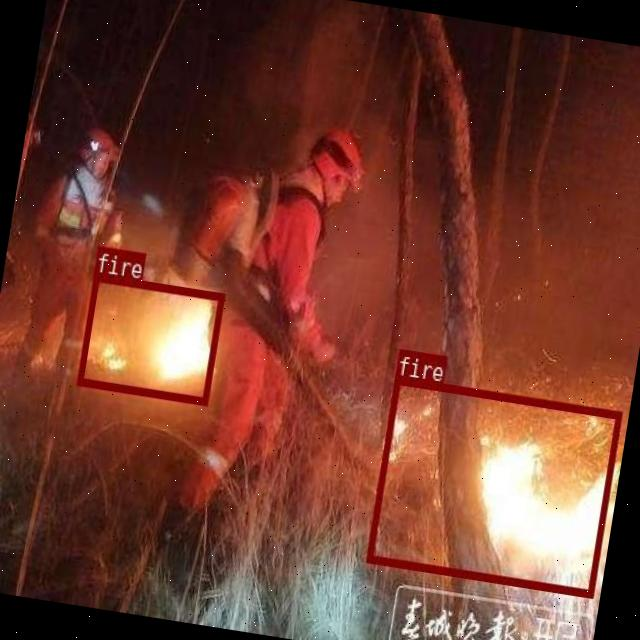fire: (365, 374, 622, 596), (76, 272, 224, 404)
